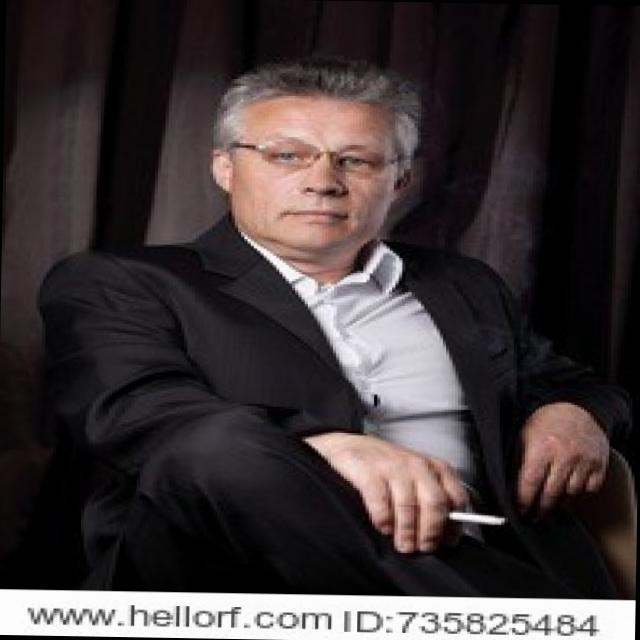cigarette: (444, 492, 512, 541)
